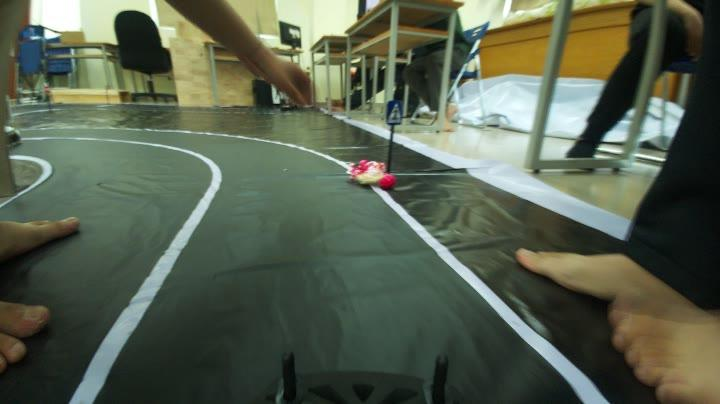crosswalk: (380, 97, 406, 130)
